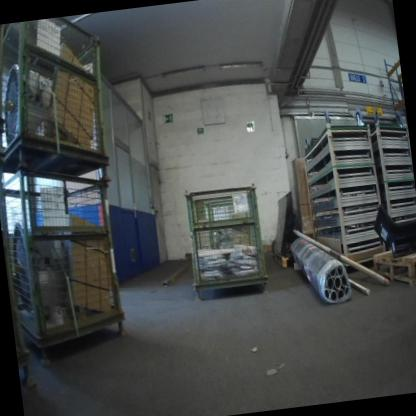pallet: (369, 237, 416, 297)
stillage: (2, 159, 136, 361), (0, 14, 122, 187), (183, 176, 275, 304), (0, 25, 16, 136)
